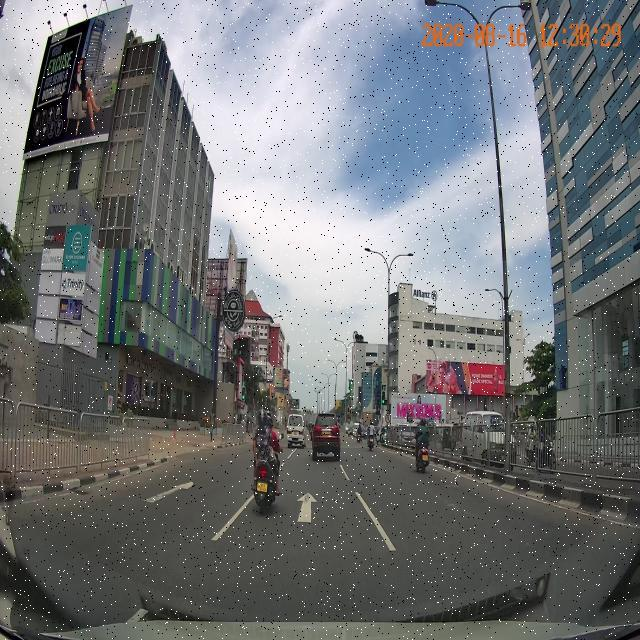forward: (276, 482, 394, 545)
